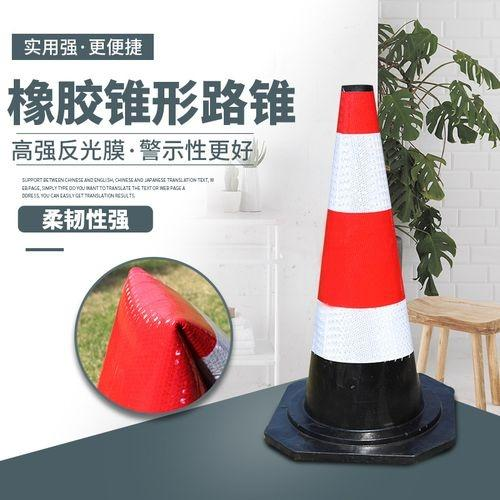cone_barrel: (287, 86, 438, 451)
